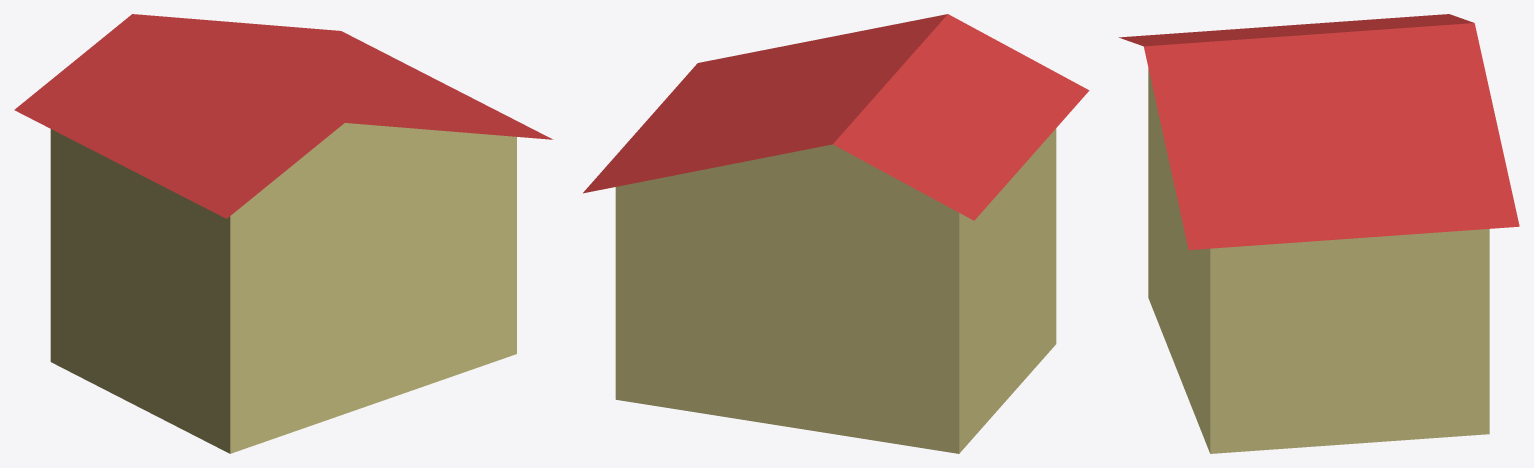
3 views of the same model, side by side, from view 1: azimuth 30°, elevation 25°; view 2: azimuth 150°, elevation 25°; view 3: azimuth 270°, elevation 25° (orthographic).
Size of the model in its own units: 13.59 by 11.47 by 9.67.
